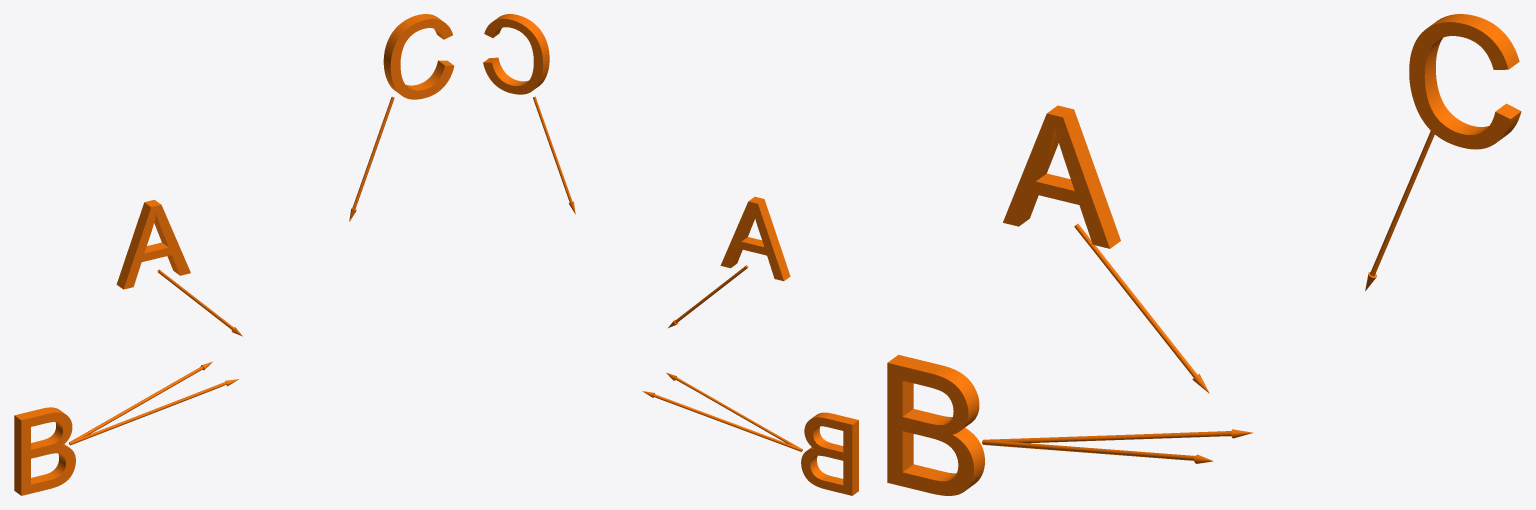
The model's file is 23arrow.glb.
3 renders of one model, left to right at view 1: azimuth 30°, elevation 25°; view 2: azimuth 150°, elevation 25°; view 3: azimuth 330°, elevation 25°, orthographic. The views are drawn at different scales.
Visible parts, largest first — view 1: Node; view 2: Node; view 3: Node.
Part boxes in pixels (x1,y1,x2,y2): Node: (14, 14, 454, 495); Node: (483, 14, 858, 495); Node: (887, 14, 1521, 495).
Size of the model in its own units: 8.57 by 7.88 by 1.44.
